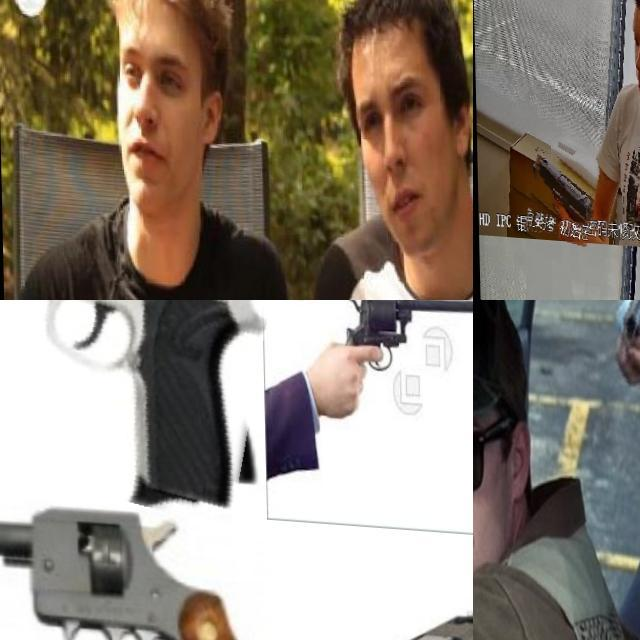gun-knife-thesis - v11 Yolov5 augmented: (0, 300, 273, 513), (0, 497, 263, 640), (342, 300, 473, 377), (348, 578, 473, 640), (524, 152, 596, 244), (606, 300, 640, 383)
